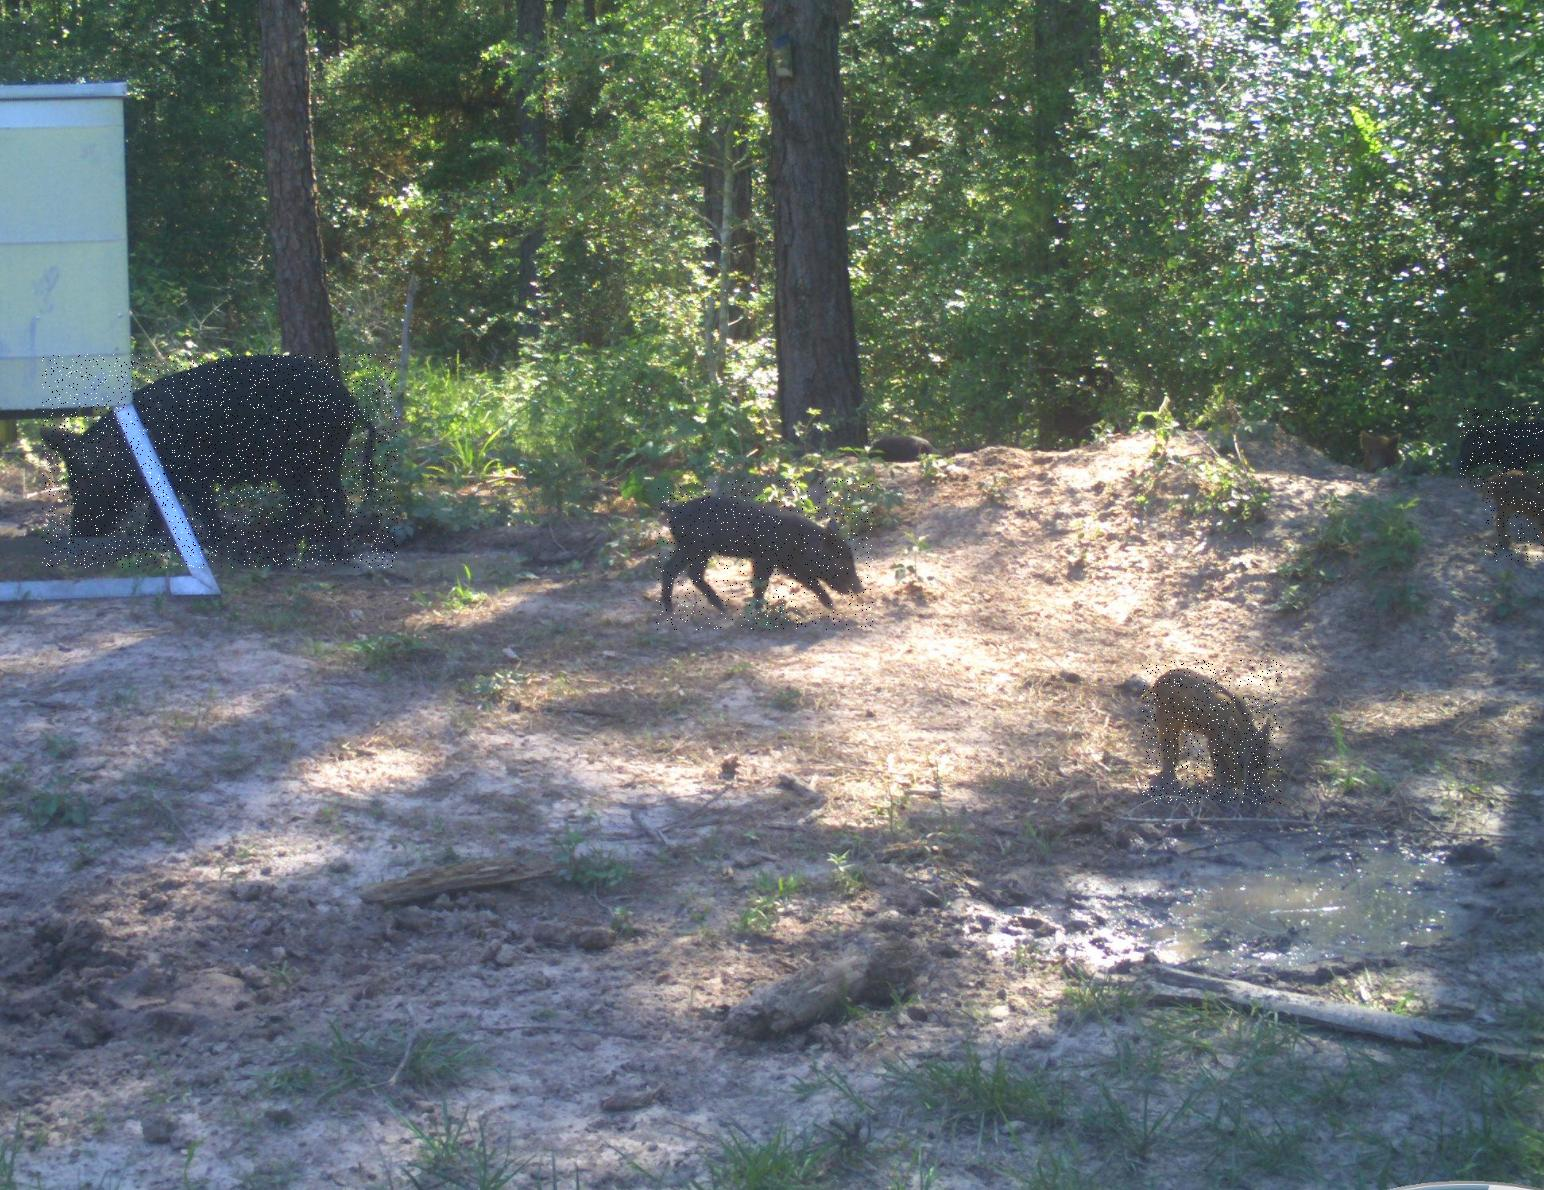Hog: (41, 354, 399, 567), (656, 480, 874, 630), (1143, 660, 1281, 804), (1460, 407, 1544, 489), (1484, 465, 1544, 561)
